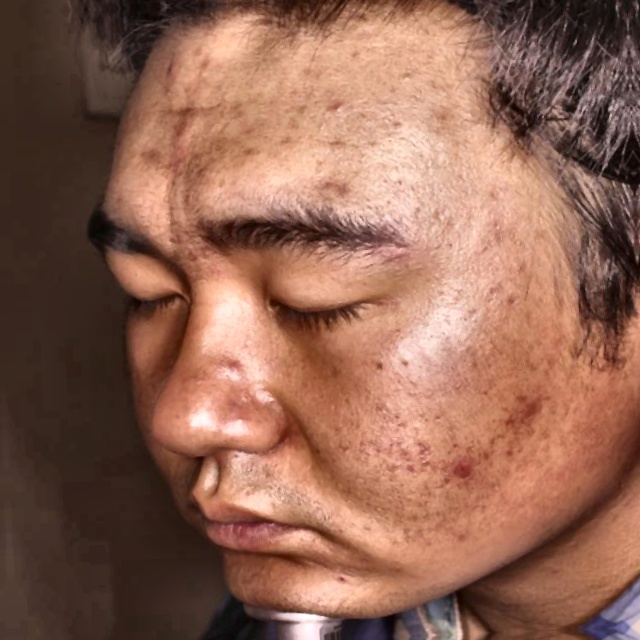comedone: (447, 451, 496, 493), (214, 346, 252, 390), (513, 391, 549, 430), (153, 51, 186, 88), (192, 45, 221, 87)
